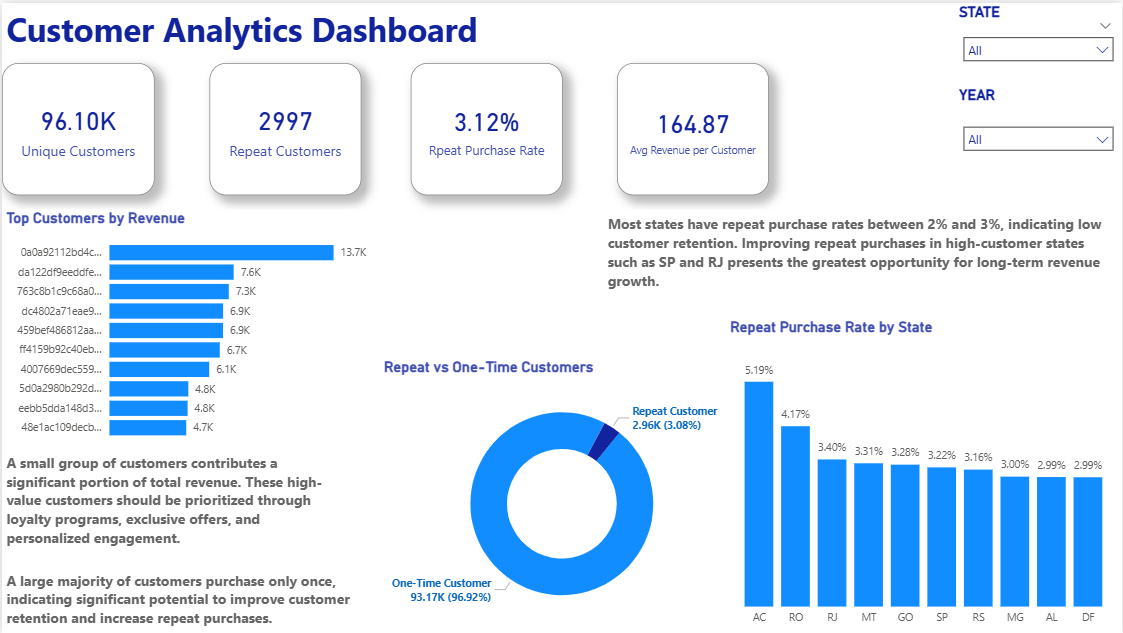

The dashboard page shown, as its layout file describes it:
{"tool":"powerbi","page":{"name":"Page 2","canvas":[1280,720],"ordinal":1},"visuals":[{"type":"textbox","box":[0,0,702.9,68.6],"z":0},{"type":"card","fields":{"Values":["Count(olist_customers_dataset.customer_unique_id)"]},"box":[0,68.6,174.3,151.4],"z":1000},{"type":"card","fields":{"Values":["olist_customers_dataset.Repeat Customers"]},"box":[236.7,68.9,173.3,151.1],"z":2000},{"type":"card","fields":{"Values":["olist_customers_dataset.Avg Revenue per Customer"]},"box":[702.2,68.9,173.3,151.1],"z":3000},{"type":"card","fields":{"Values":["olist_customers_dataset.Repeat Purchase Rate"]},"box":[466.7,68.9,173.3,151.1],"z":4000},{"type":"clusteredBarChart","title":"Top Customers by Revenue","fields":{"Category":["olist_customers_dataset.customer_unique_id"],"Y":["olist_order_items_dataset.Total Revenue"]},"box":[0,235.7,440,272.9],"z":5000},{"type":"textbox","box":[0,508.6,377.1,138.6],"z":6000},{"type":"donutChart","title":"Repeat vs One-Time Customers","fields":{"Category":["Customer Summary.Customer Segment"],"Y":["CountNonNull(Customer Summary.customer_unique_id)"]},"box":[431.4,405.7,417.1,314.3],"z":7000},{"type":"textbox","box":[0,625.7,440,94.3],"z":8000},{"type":"clusteredColumnChart","title":"Repeat Purchase Rate by State","fields":{"Category":["Customer Summary.customer_state"],"Y":["Customer Summary.RPC"]},"box":[827.1,360,452.9,360],"z":9000},{"type":"textbox","box":[687.1,235.7,592.9,110],"z":10000},{"type":"slicer","title":"YEAR","fields":{"Values":["olist_orders_dataset.order_purchase_timestamp.Variation.Date Hierarchy.Year","olist_orders_dataset.order_purchase_timestamp.Variation.Date Hierarchy.Month"]},"box":[1088.6,94.3,191.4,77.1],"z":11000},{"type":"slicer","title":"STATE","fields":{"Values":["olist_customers_dataset.customer_state"]},"box":[1088.6,0,191.4,75.7],"z":12000}]}

Visuals, with their boxes in screenshot pixels (x1, y1, x2, y2), scaled from the page's 1280x720 canvas onto the 1123x633 screenshot:
textbox: <region>0, 0, 617, 60</region>
card - Count(olist_customers_dataset.customer_unique_id): <region>0, 60, 153, 193</region>
card - olist_customers_dataset.Repeat Customers: <region>208, 61, 360, 193</region>
card - olist_customers_dataset.Avg Revenue per Customer: <region>616, 61, 768, 193</region>
card - olist_customers_dataset.Repeat Purchase Rate: <region>409, 61, 562, 193</region>
"Top Customers by Revenue" clusteredBarChart: <region>0, 207, 386, 447</region>
textbox: <region>0, 447, 331, 569</region>
"Repeat vs One-Time Customers" donutChart: <region>378, 357, 744, 632</region>
textbox: <region>0, 550, 386, 632</region>
"Repeat Purchase Rate by State" clusteredColumnChart: <region>726, 316, 1122, 632</region>
textbox: <region>603, 207, 1122, 304</region>
"YEAR" slicer: <region>955, 83, 1122, 151</region>
"STATE" slicer: <region>955, 0, 1122, 67</region>
